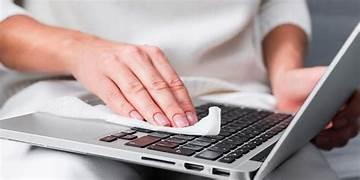keyboard: (94, 96, 302, 168)
